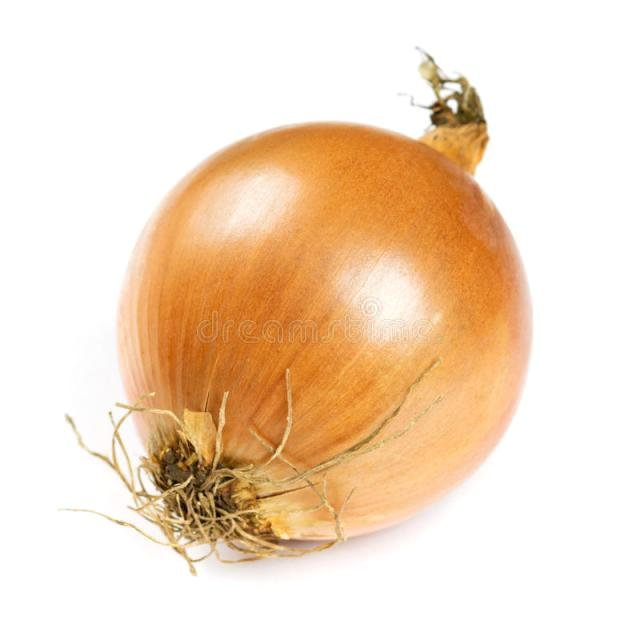onion: (117, 100, 542, 553)
